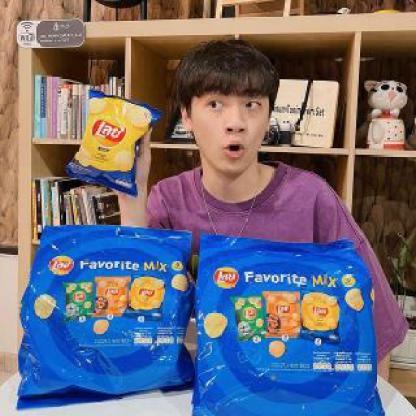potatochip: (186, 229, 391, 415), (14, 219, 208, 414), (61, 85, 166, 203)
